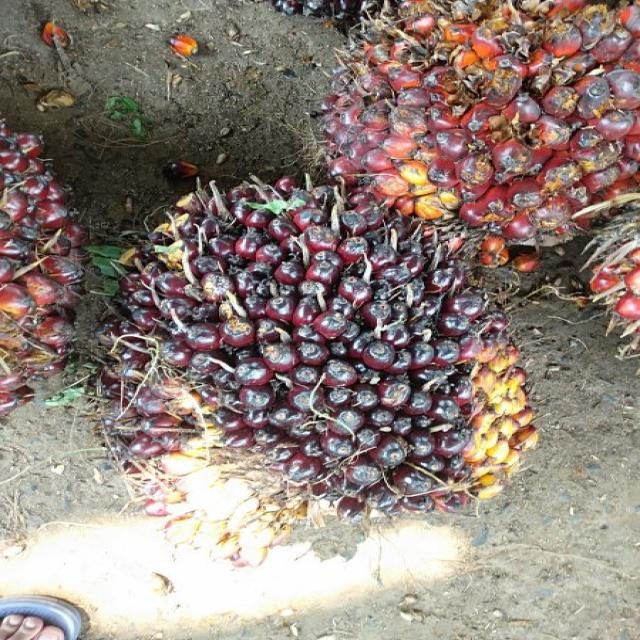fraksi 1: (98, 176, 545, 528)
